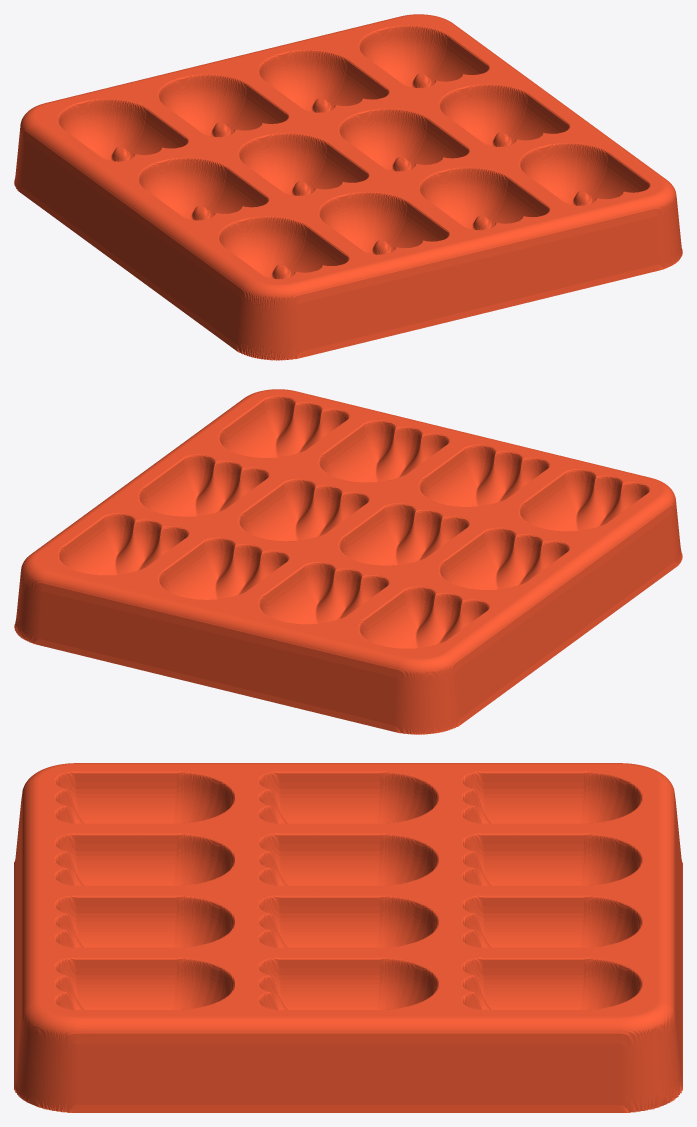
The model's file is mold.glb.
3 renders of one model, top to bottom at view 1: azimuth 30°, elevation 25°; view 2: azimuth 150°, elevation 25°; view 3: azimuth 270°, elevation 25°, orthographic. The views are drawn at different scales.
Parts seen in each view (by area): view 1: geometry_0; view 2: geometry_0; view 3: geometry_0.
Boxes of the visible parts, left/top/right/bottom form: geometry_0: left=14, top=14, right=682, bottom=360; geometry_0: left=14, top=389, right=682, bottom=734; geometry_0: left=14, top=763, right=682, bottom=1112.
Size of the model in its own units: 0.093 by 0.0136 by 0.0963.
